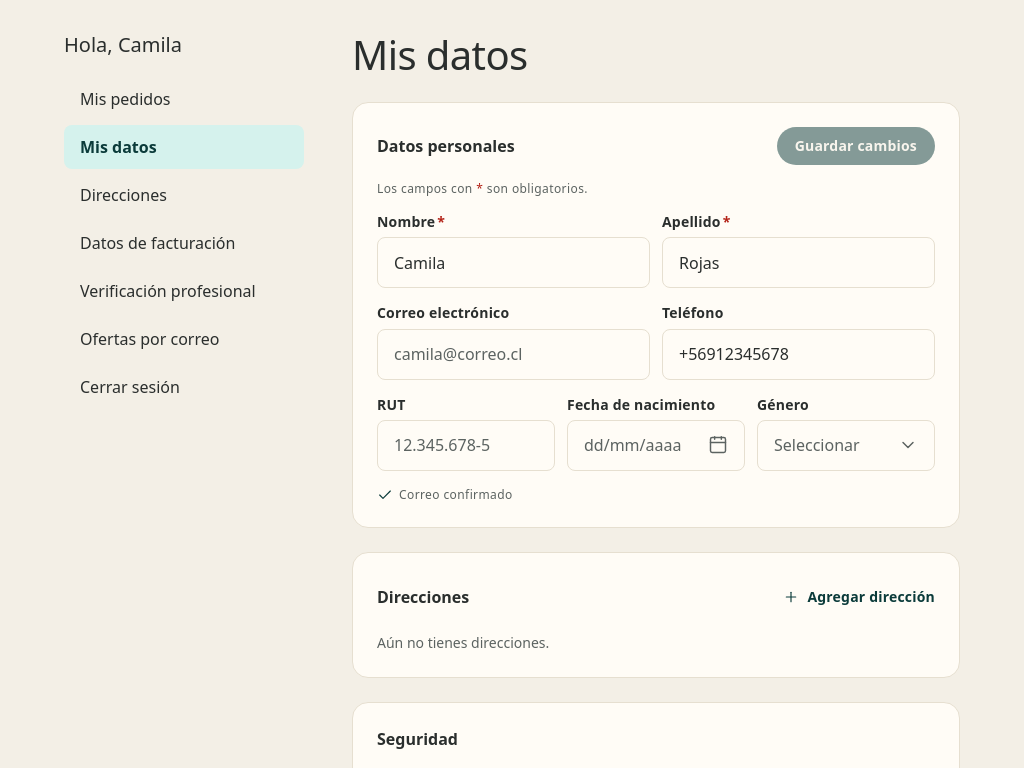
it: SCRUM-97 · Mis datos › E1-H5 FE · editar datos: un error del servidor se muestra sin detalles técnicos
Step 1. Type "9" into the field labelled "Teléfono" → coordinates (798, 354), box [662, 329, 935, 380]
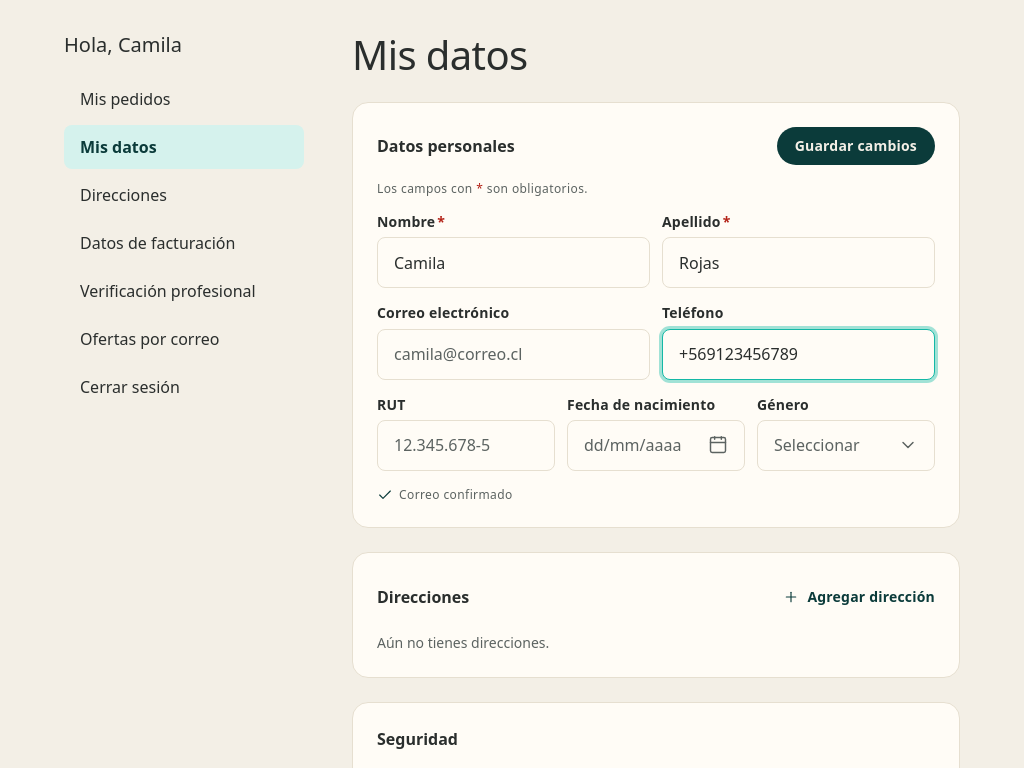
Step 2. Click the button "Guardar cambios" → coordinates (856, 146), box [777, 127, 935, 165]
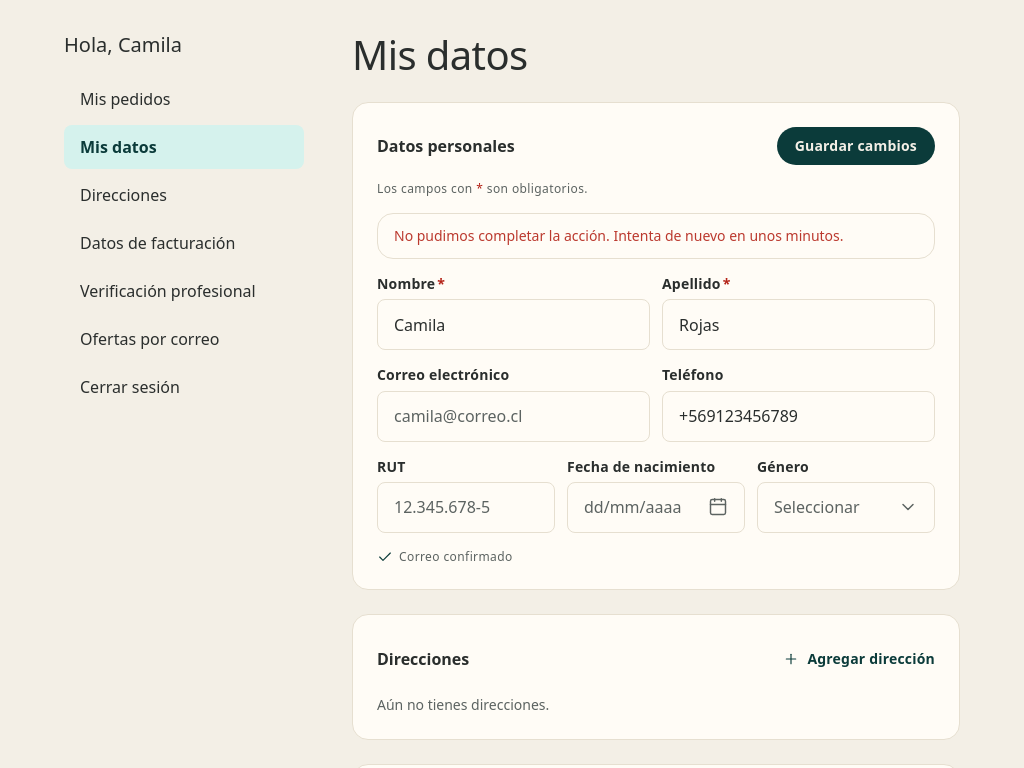
Expected: the form "Datos personales" does not show "Prisma", [352, 102, 960, 590]
Now the message reads "No pudimos completar la acción. Intenta de nuevo en unos minutos.", box [394, 226, 844, 245]
